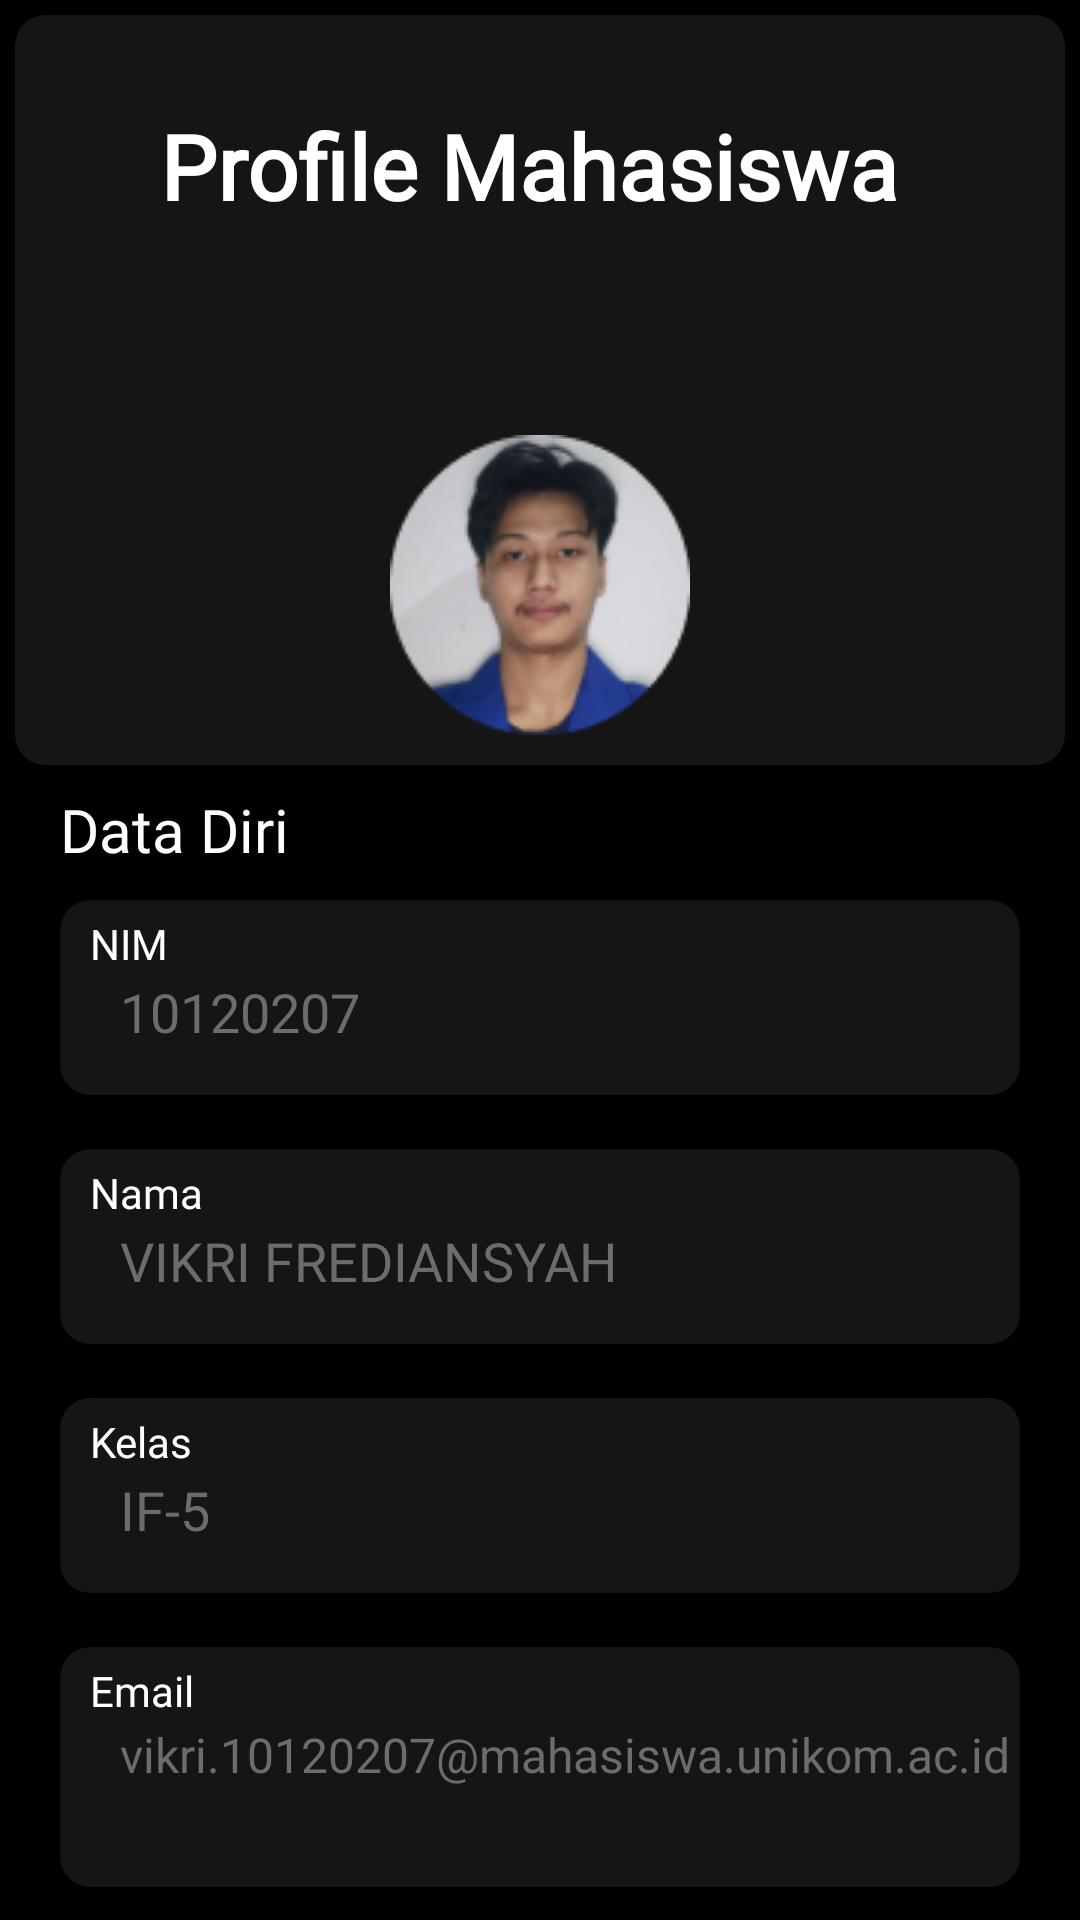

Screen size 1080×1920. Icon name, then its box in pixels as (x1, y1, x2, y2):
profile vikri: (390, 435, 690, 735)
